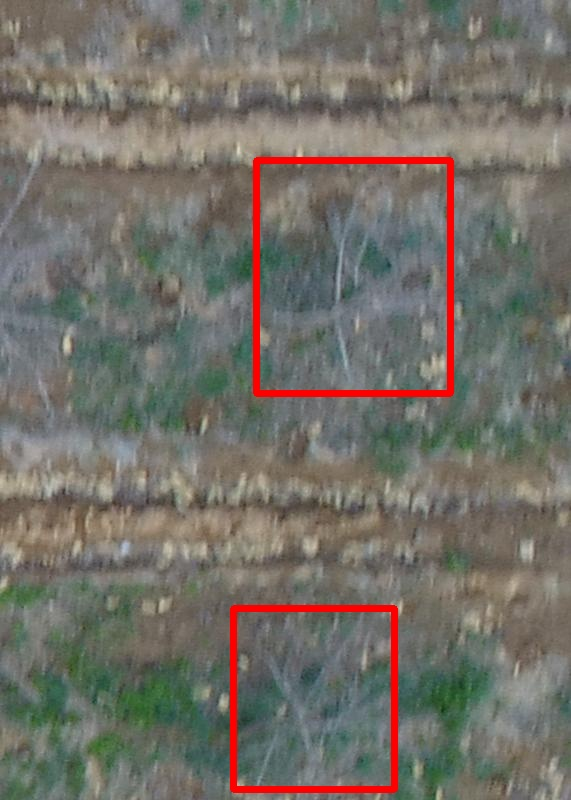apple: (256, 160, 450, 393), (233, 608, 394, 789)
